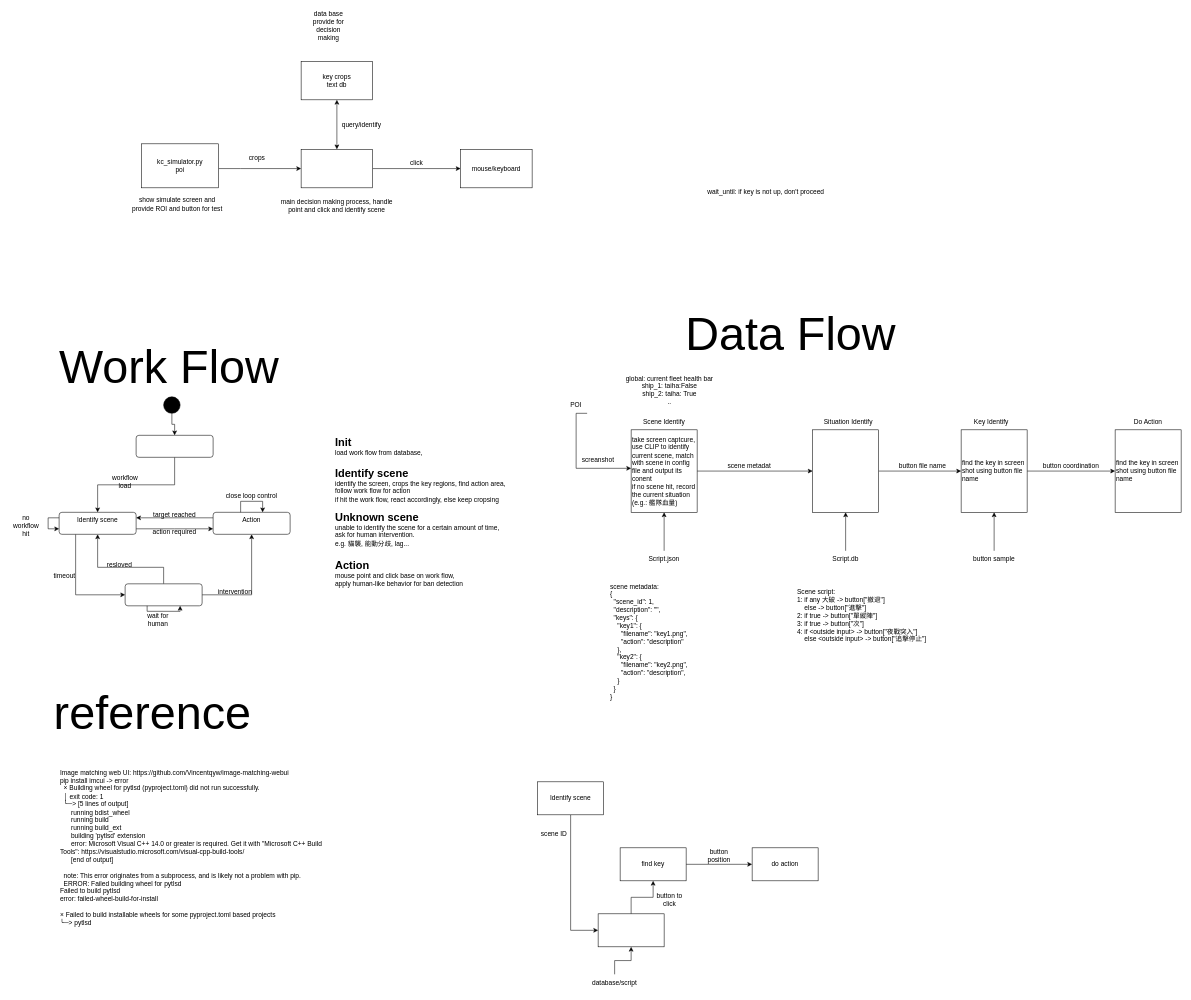
The diagram is 1191 pixels wide and 1000 high, and some of its shapes have lost their labels. The box of each missing label's shape, as (x1, y1, x2, y2) in pixels:
from the scene metadata and fleet health, get the next action's button filename: (812, 429, 879, 512)
Init: (136, 435, 213, 457)
kc_agent.py: (301, 149, 373, 188)
situation: (598, 913, 664, 947)
Unknown scene: (125, 583, 202, 606)
